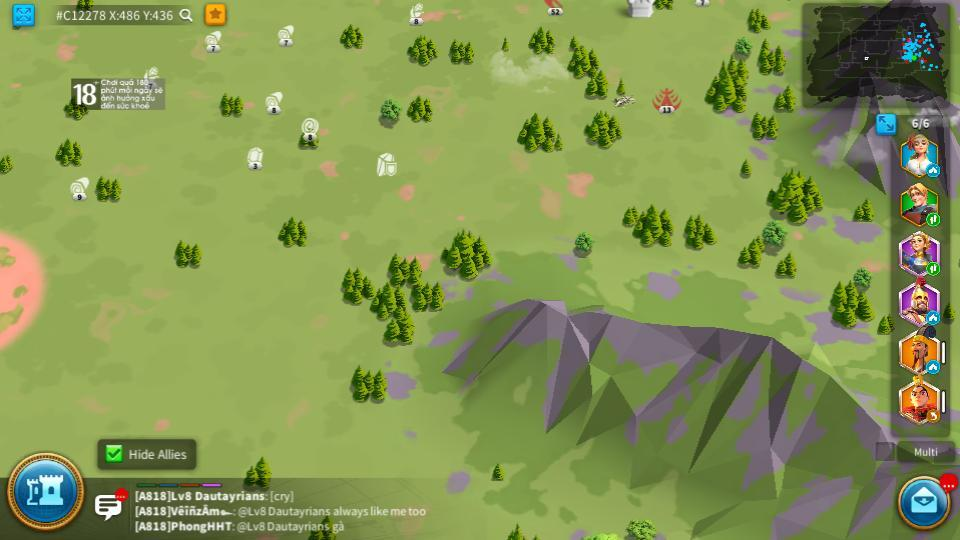gem-z-out: (243, 146, 265, 168)
march_idle: (927, 312, 940, 324), (927, 362, 940, 373), (928, 165, 940, 176)
march_marching: (925, 263, 938, 275), (927, 216, 940, 227)
march_returning: (926, 411, 940, 422)
